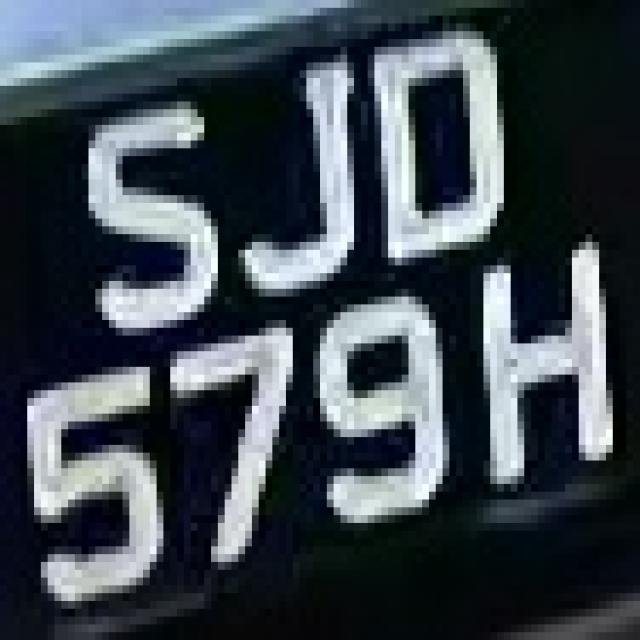5: (20, 351, 164, 617)
7: (150, 320, 327, 570)
9: (300, 250, 463, 554)
D: (361, 31, 517, 281)
H: (470, 234, 620, 500)
J: (218, 31, 368, 297)
S: (61, 94, 218, 351)
